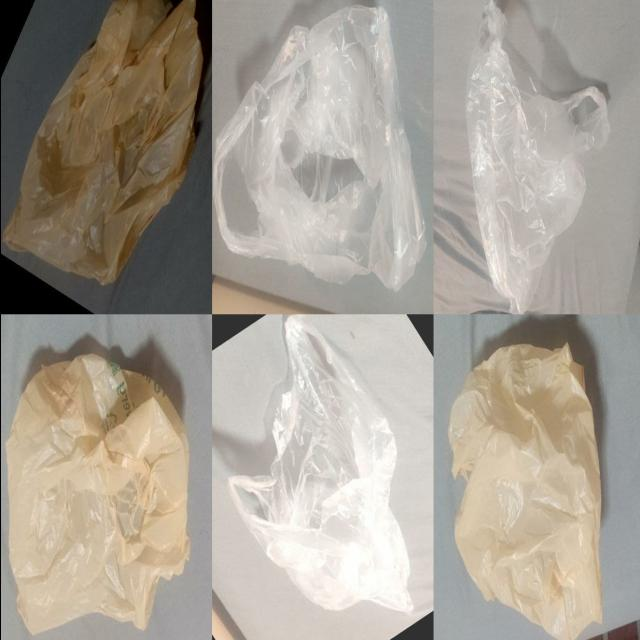plastik: (213, 6, 424, 290), (3, 0, 202, 285), (227, 316, 412, 613), (5, 353, 188, 634), (465, 0, 609, 313), (448, 344, 600, 640)
